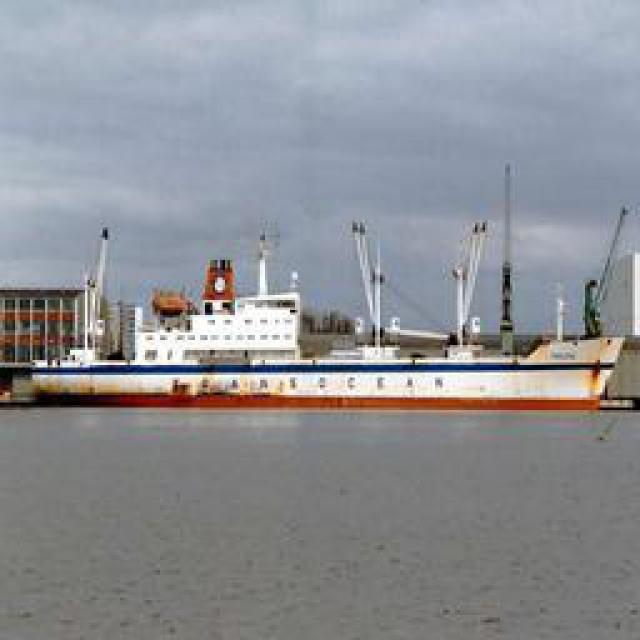Ship: (3, 211, 640, 406)
